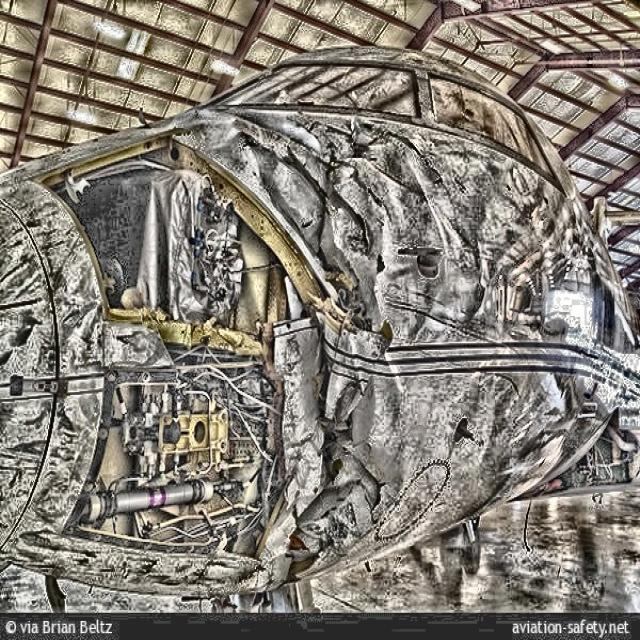crack: (360, 122, 447, 188), (357, 457, 391, 512)
